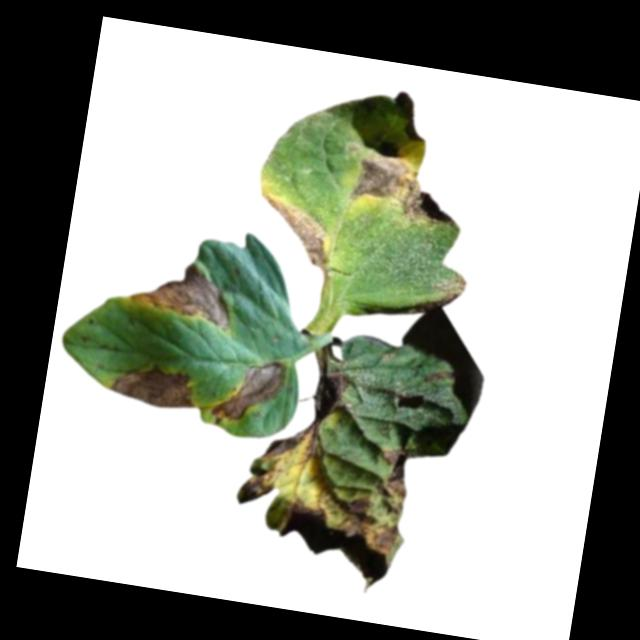Early_blight: (233, 361, 429, 590), (122, 249, 240, 334), (346, 148, 463, 221), (253, 193, 338, 274), (209, 353, 288, 433), (106, 357, 201, 411), (432, 271, 467, 310), (424, 363, 454, 385)
